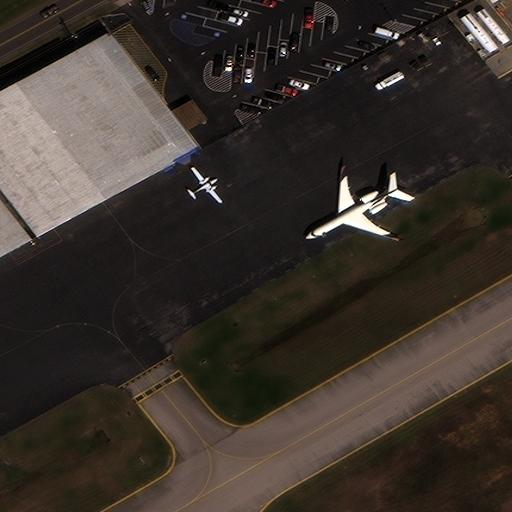Medium Civil Transport: (304, 166, 400, 240)
Small Civil Transport: (189, 165, 223, 202)
